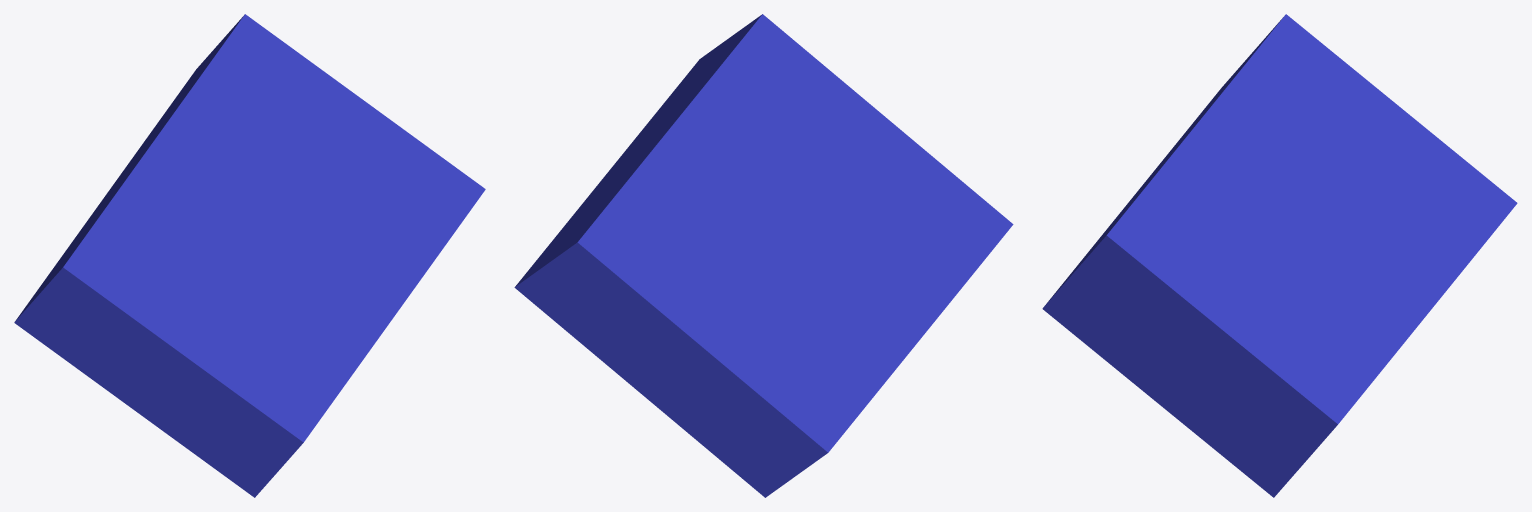
File: blue.glb
The picture shows the model from 3 angles, left to right: view 1: azimuth 30°, elevation 25°; view 2: azimuth 150°, elevation 25°; view 3: azimuth 270°, elevation 25°; orthographic projection.
Size of the model in its own units: 2.69 by 2.86 by 2.55.
1 material, 1 textured.
